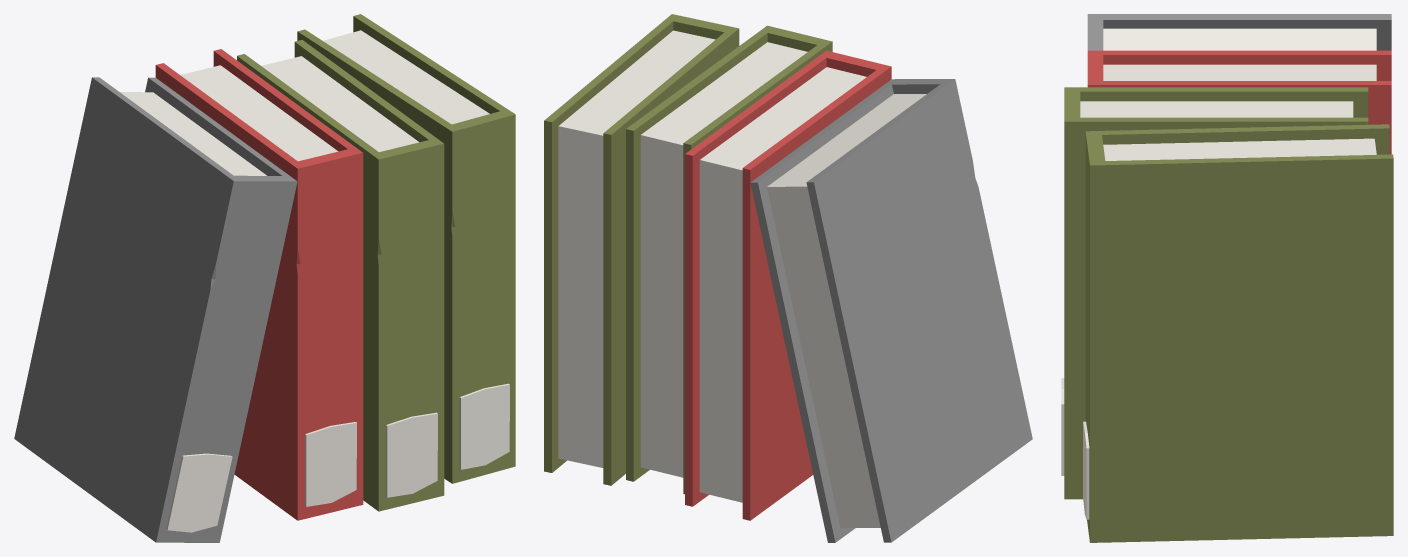
The model's file is Wh_Documents_01.fbx.
3 views of the same model, side by side, from view 1: azimuth 30°, elevation 25°; view 2: azimuth 150°, elevation 25°; view 3: azimuth 270°, elevation 25° (orthographic). The views are drawn at different scales.
Parts seen in each view (by area): view 1: Cube.1029; view 2: Cube.1029; view 3: Cube.1029.
Part boxes in pixels (x1,y1,x2,y2): Cube.1029: (14,14,515,542); Cube.1029: (544,14,1032,542); Cube.1029: (1061,14,1393,542).
Size of the model in its own units: 50.64 by 48.05 by 37.67.
